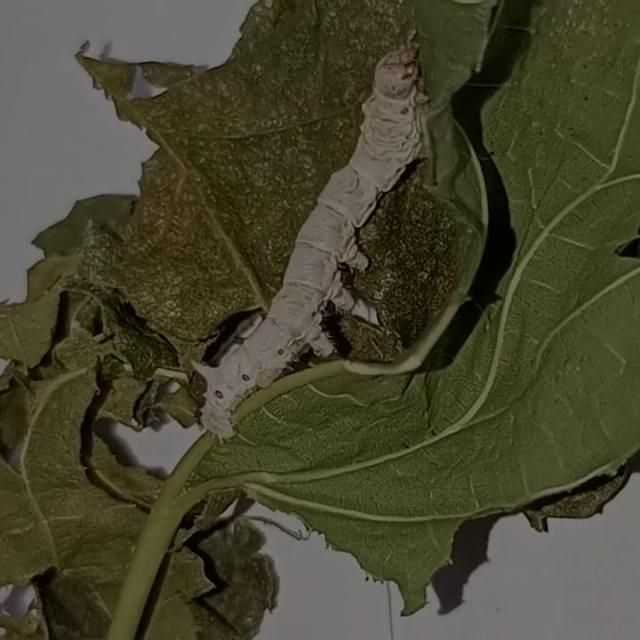Healthy: (188, 32, 441, 446)
